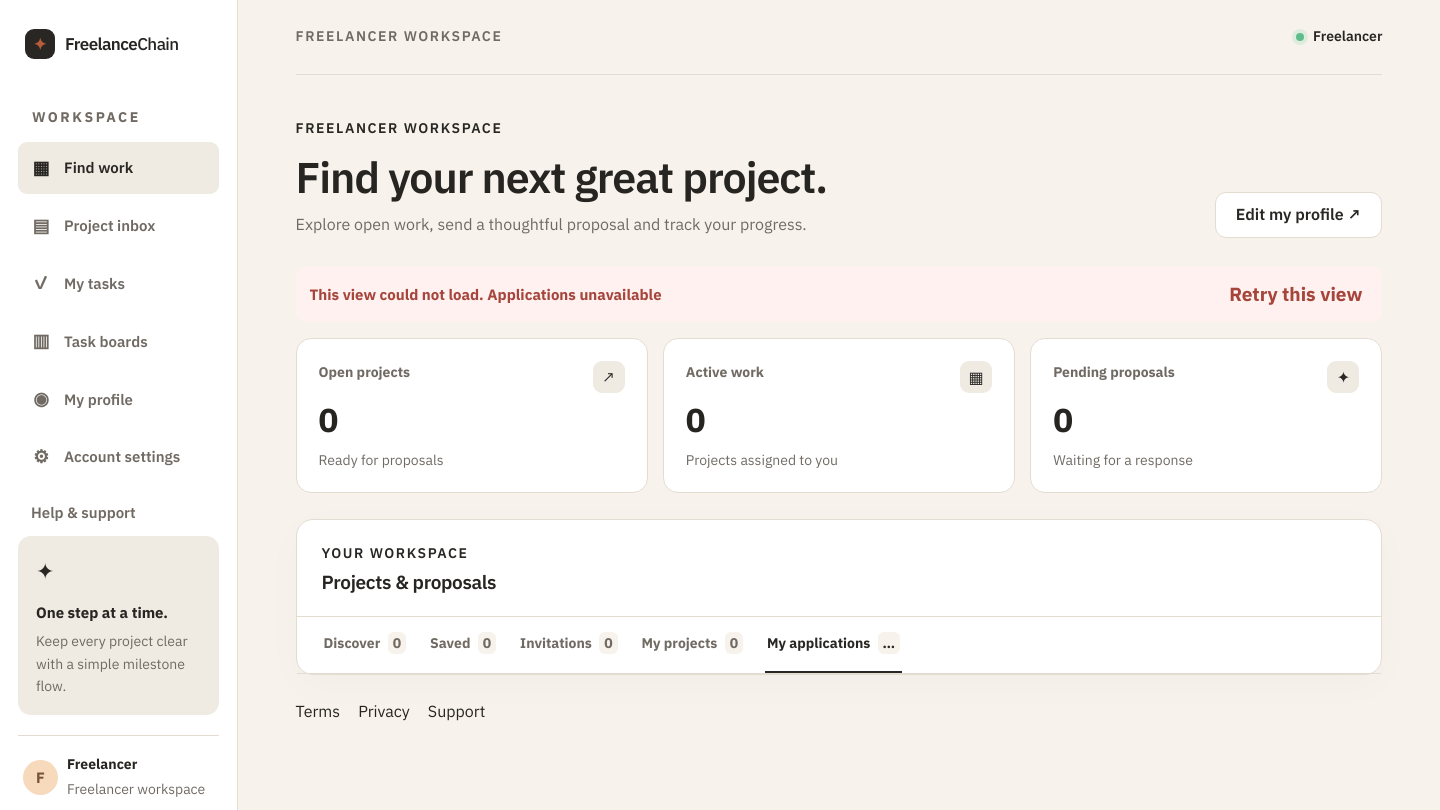
an application request failure offers retry instead of claiming there are no applications
Expected: the message shows "Applications unavailable", [487, 285, 662, 304]
Expected: the text "No applications yet" is not shown
Click the button "Retry this view".
click(1296, 294)  # box [1223, 279, 1368, 310]
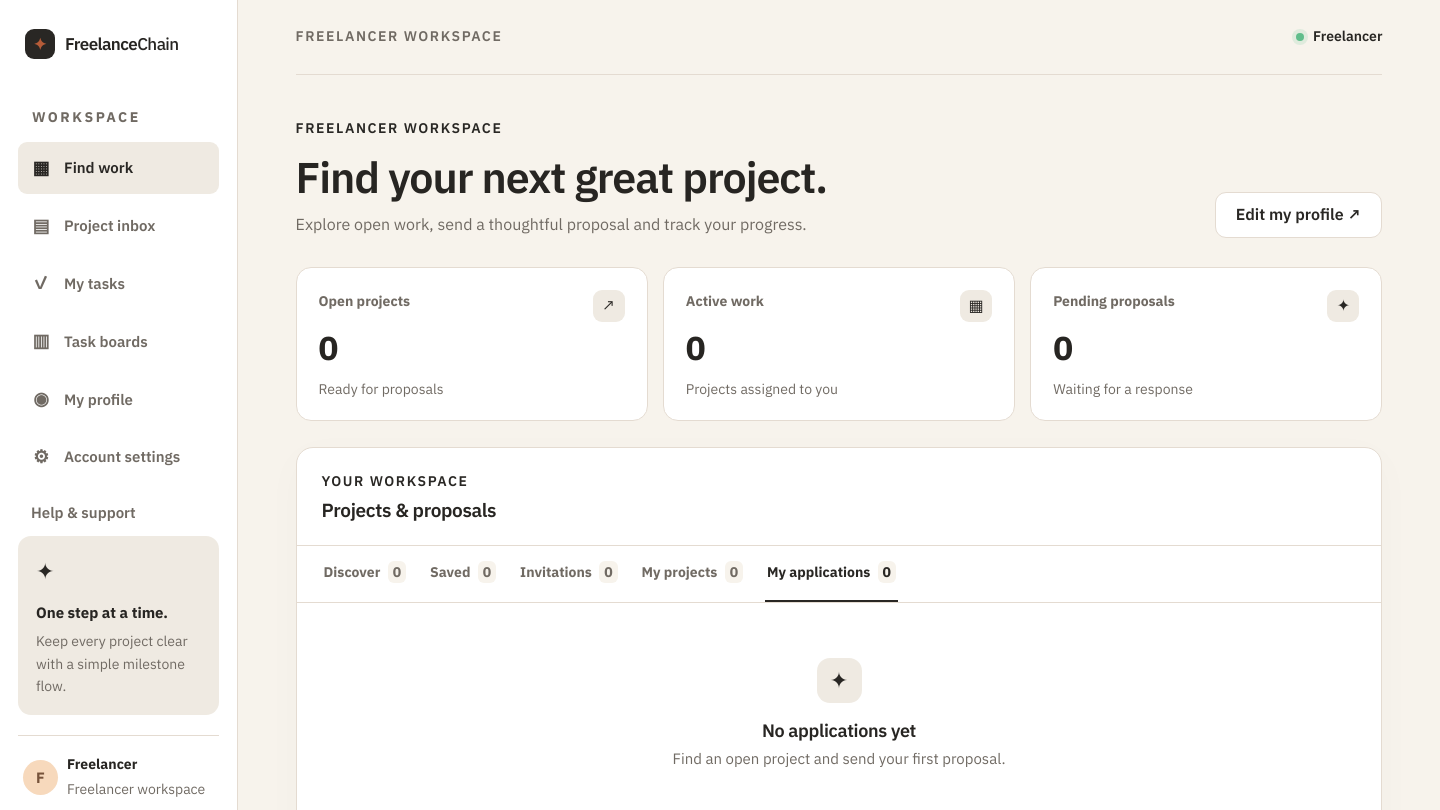
Expected: the heading "No applications yet" is shown, [762, 719, 916, 742]
